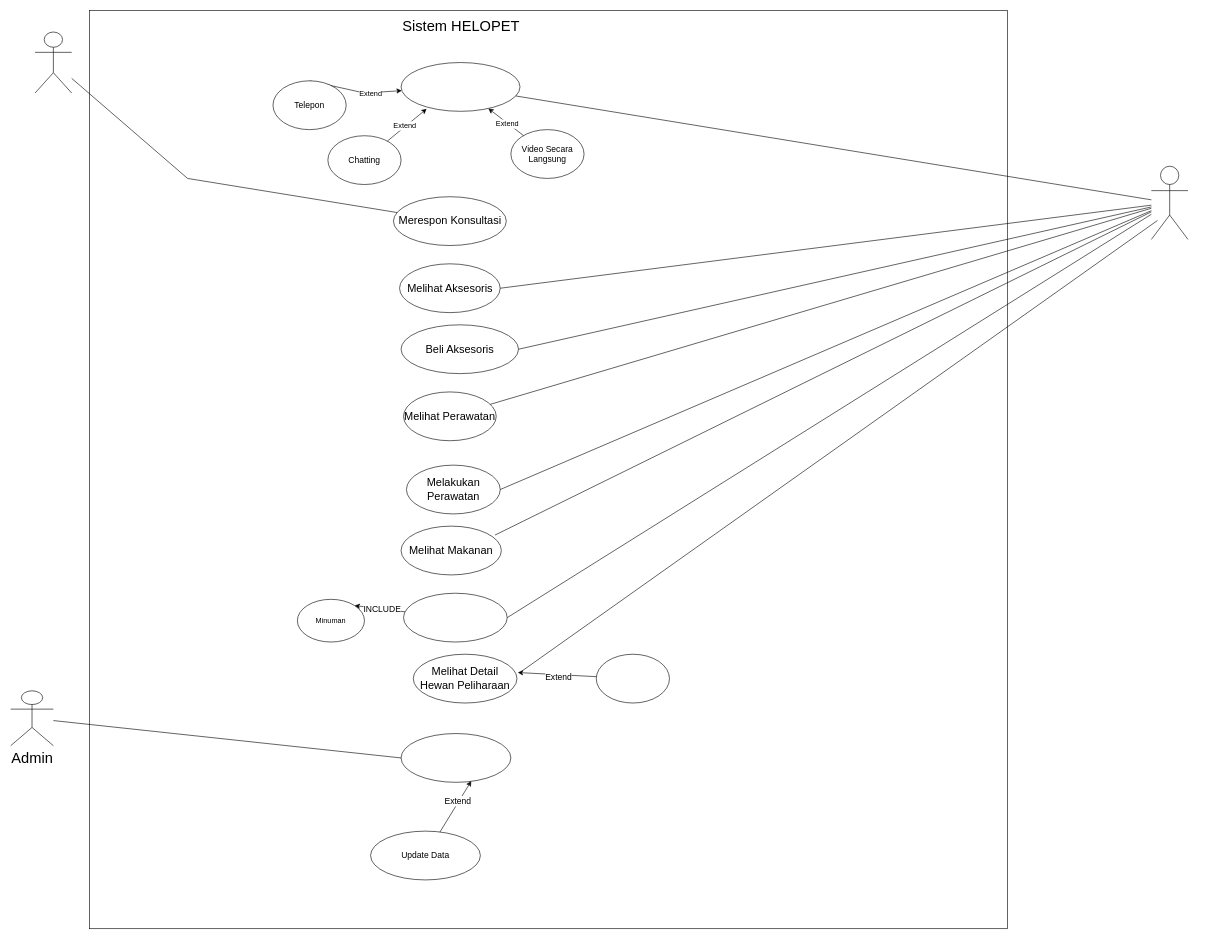
Image size: 1216x939. Some labels were removed from this diagram. The shapes that lost their labels are listed below. From the top down, each one's centre as x and y in pixels, then its label:
At point (53, 62): "Dokter".
At point (460, 86): "Layanan Konsultasi".
At point (1169, 202): "Customers".
At point (455, 617): "Memesan Makanan".
At point (632, 678): "Print Data".
At point (455, 757): "Mengelola Data".
